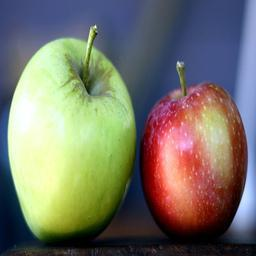apple: (2, 29, 139, 245), (139, 80, 249, 244)
